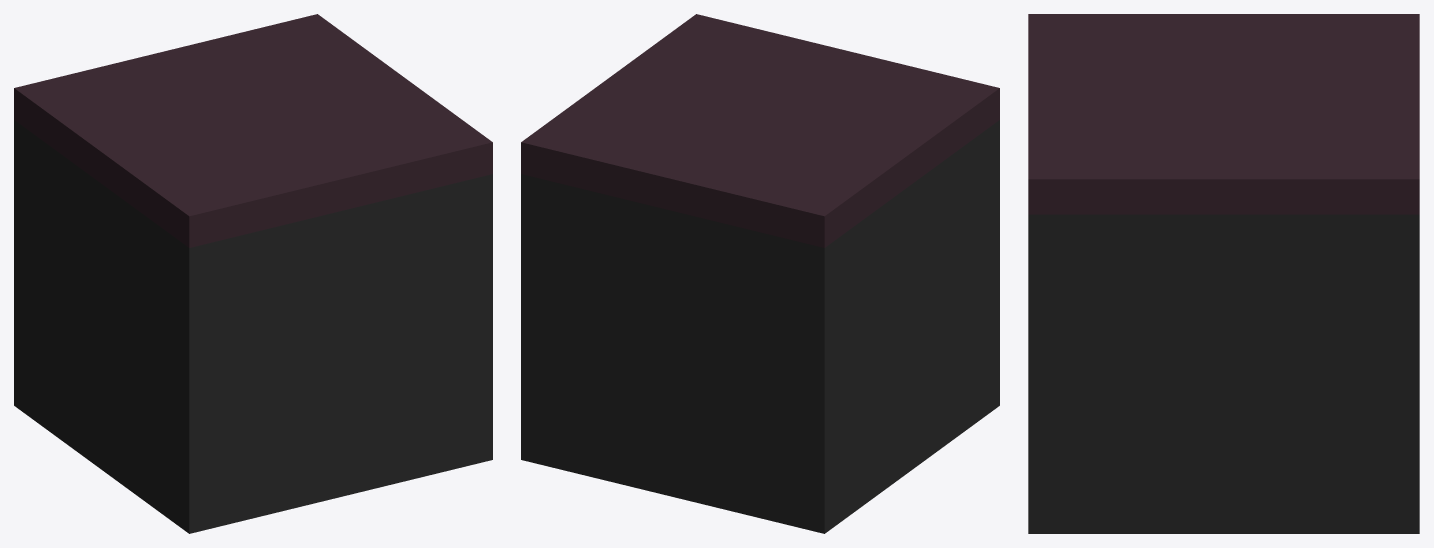
Rendered from Stage Block.fbx.
The picture shows the model from 3 angles, left to right: view 1: azimuth 30°, elevation 25°; view 2: azimuth 150°, elevation 25°; view 3: azimuth 270°, elevation 25°; orthographic projection. The views are drawn at different scales.
Visible parts, largest first — view 1: Stage Block; view 2: Stage Block; view 3: Stage Block.
Part boxes in pixels (x1=…): Stage Block: x1=14, y1=14, x2=492, y2=533; Stage Block: x1=521, y1=14, x2=999, y2=533; Stage Block: x1=1028, y1=14, x2=1419, y2=533.
Bounding box in the file's own units: 1000 × 1000 × 1000.
